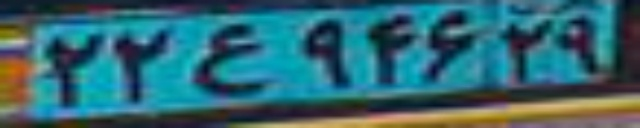2: (111, 29, 166, 102), (43, 33, 96, 108), (501, 19, 551, 84)
4: (365, 13, 412, 85)
6: (421, 9, 477, 83)
9: (300, 17, 356, 88), (554, 17, 601, 75)
ain: (189, 23, 270, 96)
